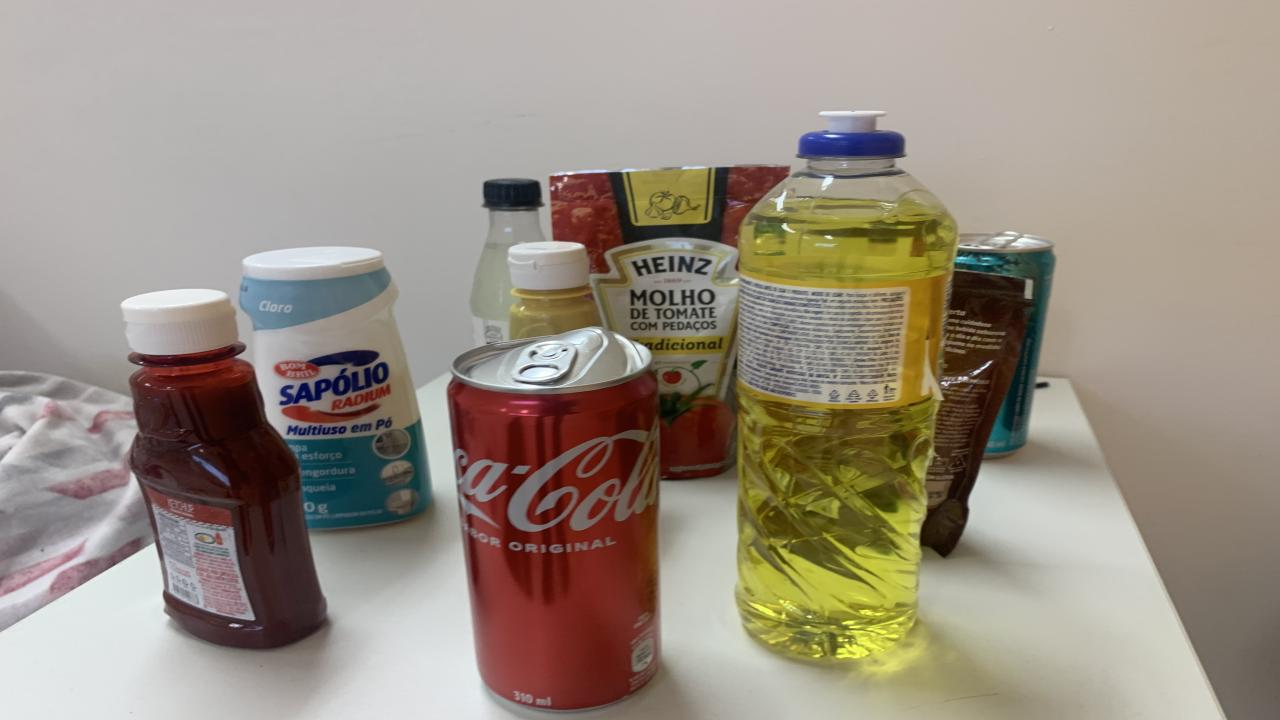Cleaner-Cleanup_Items: (240, 248, 432, 529)
Coffee-Pantry_Items: (920, 270, 1032, 555)
Coke-Drinks: (448, 326, 660, 711)
Detergent-Cleanup_Items: (738, 114, 958, 660)
Ketchup-Pantry_Items: (122, 289, 328, 649)
Tea-Drinks: (955, 232, 1055, 458)
Tomato_Sauce-Pantry_Items: (550, 165, 790, 478)
